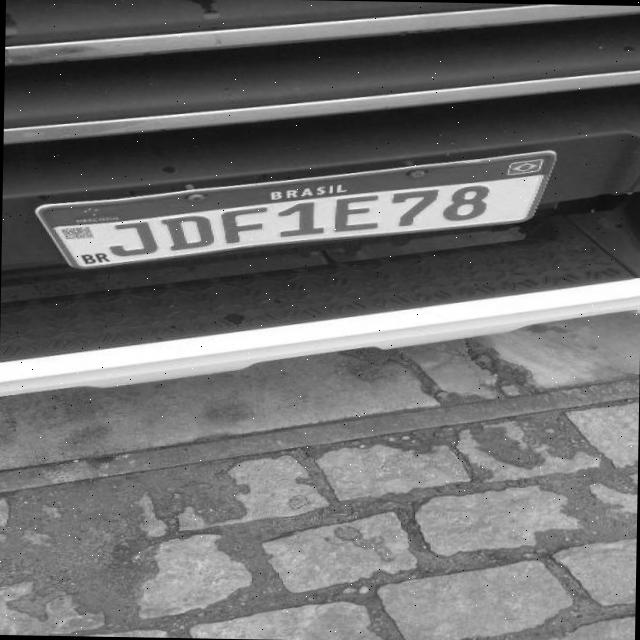placa_mercosul: (36, 150, 555, 267)
